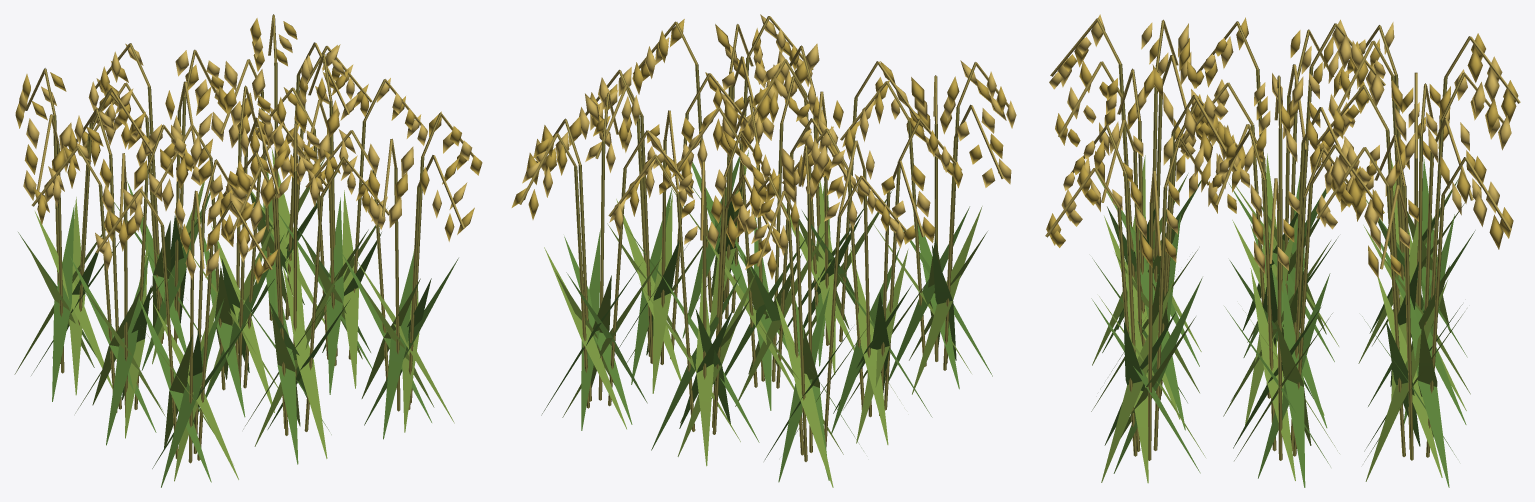
Rendered from crop-cell-rice-ready.gltf.
3 views of the same model, side by side, from view 1: azimuth 30°, elevation 25°; view 2: azimuth 150°, elevation 25°; view 3: azimuth 270°, elevation 25° (orthographic). The views are drawn at different scales.
Parts seen in each view (by area): view 1: crop-cell-rice-ready; view 2: crop-cell-rice-ready; view 3: crop-cell-rice-ready.
Boxes of the visible parts, x1,y1,x2,y2 form: crop-cell-rice-ready: (14,14,482,487); crop-cell-rice-ready: (511,14,1016,487); crop-cell-rice-ready: (1045,14,1520,487).
Size of the model in its own units: 0.6703 by 0.5093 by 0.6741.
